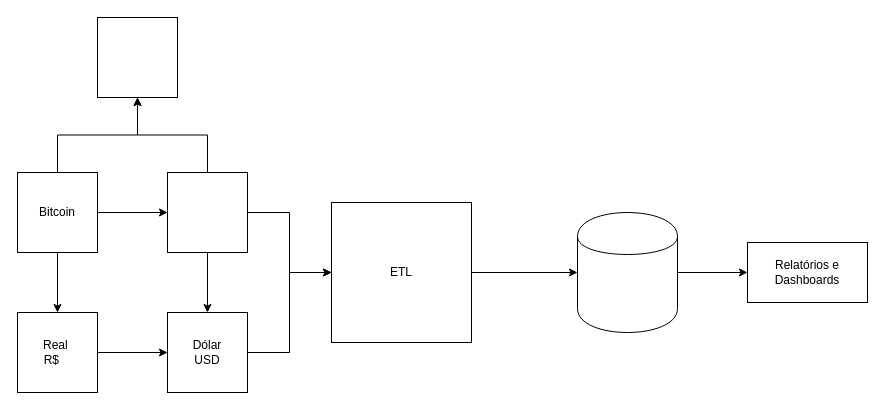
Some shapes in this 885 by 410 pixel diagram are drawn without their labels. Each missing label, with the box of its shape:
banco de dados: (576, 212, 678, 332)
Criptomoedas: (96, 16, 178, 98)
Ethereum: (166, 172, 248, 252)
